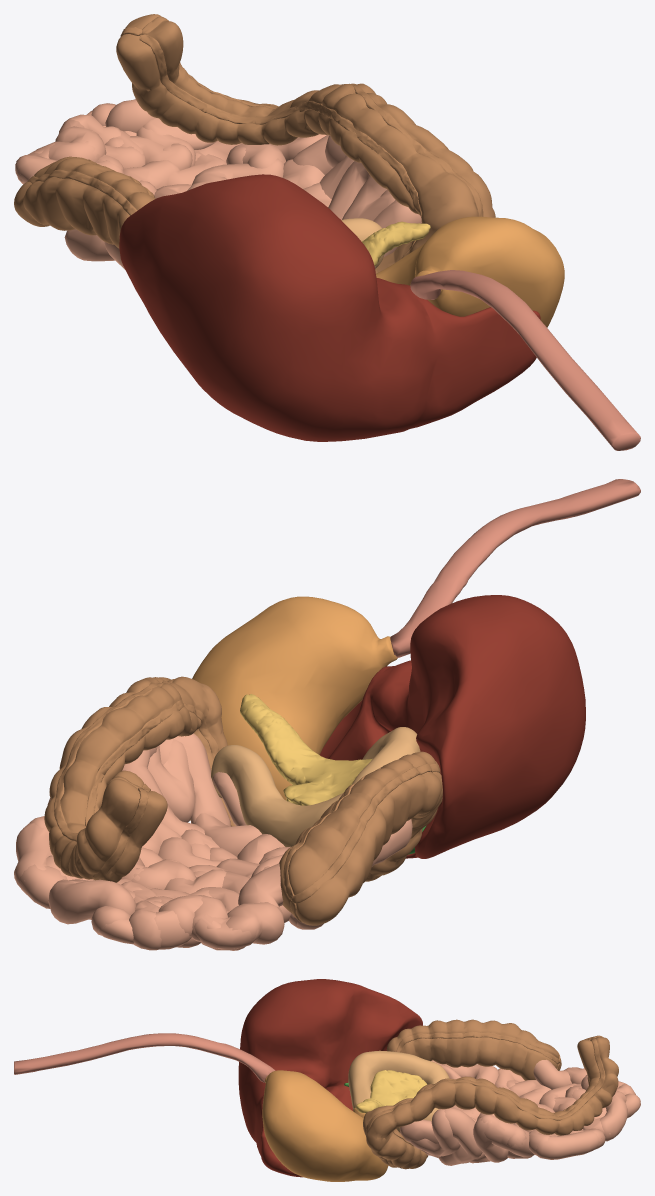
File: digestive.glb
3 views of the same model, one above another, from view 1: azimuth 30°, elevation 25°; view 2: azimuth 150°, elevation 25°; view 3: azimuth 270°, elevation 25° (orthographic). The views are drawn at different scales.
Visible parts, largest first — view 1: Бауыр, Тоқ ішек, Аш ішек, Асқазан, Өңеш, Ұйқы безі; view 2: Бауыр, Тоқ ішек, Аш ішек, Асқазан, Өңеш, Он екі елі ішек, Ұйқы безі; view 3: Тоқ ішек, Бауыр, Аш ішек, Асқазан, Өңеш, Он екі елі ішек, Ұйқы безі.
Part boxes in pixels (x1,y1,x2,y2): Бауыр: (119,174,540,441); Тоқ ішек: (14,14,495,273); Аш ішек: (15,99,421,269); Асқазан: (376,216,564,327); Өңеш: (410,270,640,450); Ұйқы безі: (362,221,430,266); Бауыр: (320,595,585,858); Тоқ ішек: (44,676,442,925); Аш ішек: (14,733,412,950); Асқазан: (192,596,397,800); Өңеш: (390,479,640,657); Он екі елі ішек: (211,727,420,846); Ұйқы безі: (240,694,372,805); Тоқ ішек: (363,1019,618,1169); Бауыр: (238,979,422,1177); Аш ішек: (400,1059,640,1165); Асқазан: (262,1070,388,1181); Өңеш: (14,1033,275,1082); Он екі елі ішек: (348,1050,449,1132); Ұйқы безі: (355,1070,427,1113).
Bounding box in the file's own units: 232 × 153 × 590.
